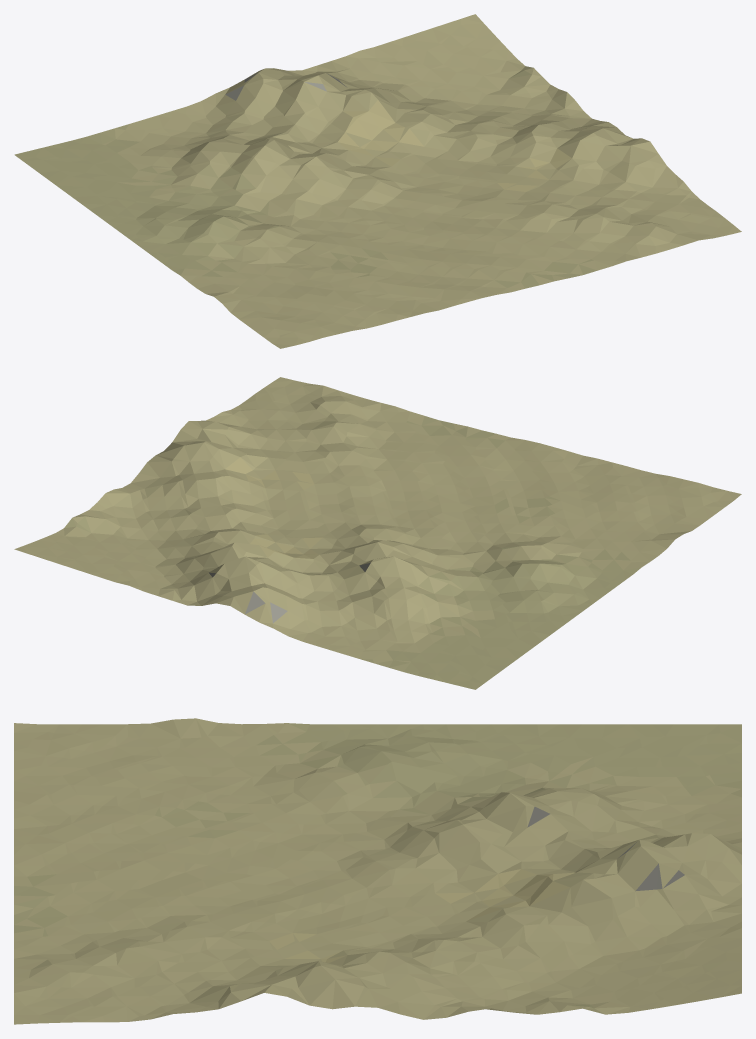
Rendered from Ground_-4_-9.glb.
3 renders of one model, top to bottom at view 1: azimuth 30°, elevation 25°; view 2: azimuth 150°, elevation 25°; view 3: azimuth 270°, elevation 25°, orthographic. The views are drawn at different scales.
Parts seen in each view (by area): view 1: Ground_-4_-9; view 2: Ground_-4_-9; view 3: Ground_-4_-9.
Boxes of the visible parts, <box> form: Ground_-4_-9: <box>14,14,741,348</box>; Ground_-4_-9: <box>14,377,741,689</box>; Ground_-4_-9: <box>14,718,741,1024</box>.
Size of the model in its own units: 768 by 65.48 by 768.
